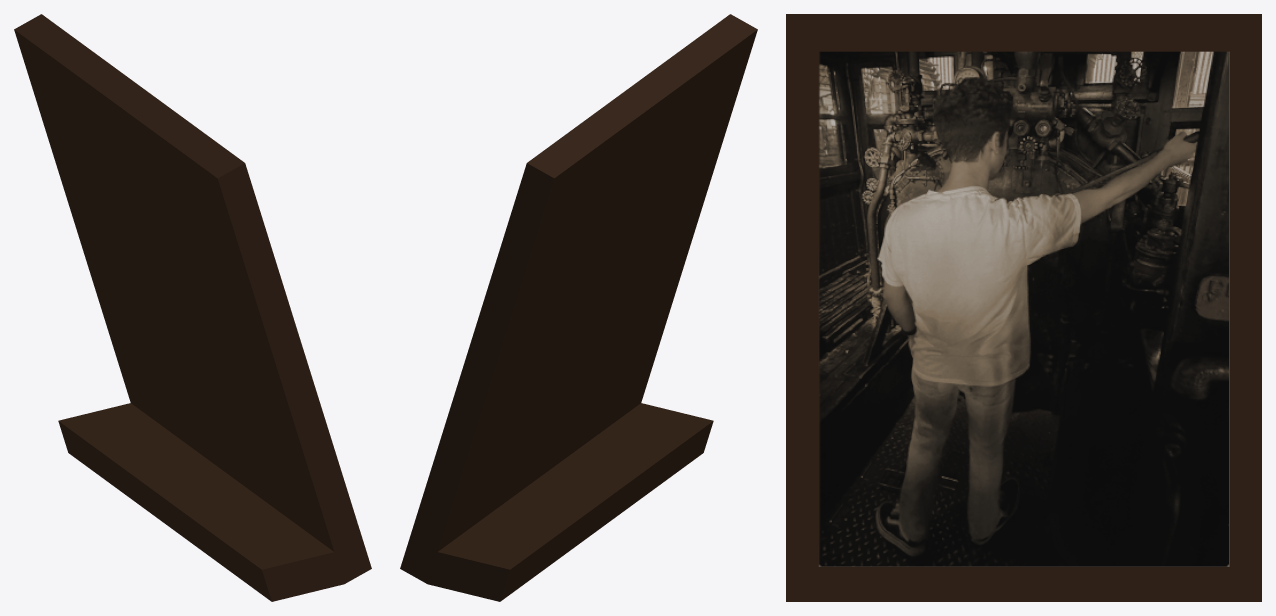
Rendered from TheEngineer.fbx.
3 views of the same model, side by side, from view 1: azimuth 30°, elevation 25°; view 2: azimuth 150°, elevation 25°; view 3: azimuth 270°, elevation 25° (orthographic). The views are drawn at different scales.
Visible parts, largest first — view 1: Cube; view 2: Cube; view 3: Cube.
Boxes of the visible parts, x1,y1,x2,y2 form: Cube: (14, 14, 371, 601); Cube: (400, 14, 757, 601); Cube: (786, 14, 1261, 601).
Bounding box in the file's own units: 87.53 × 241 × 200.
1 material, 1 textured.
